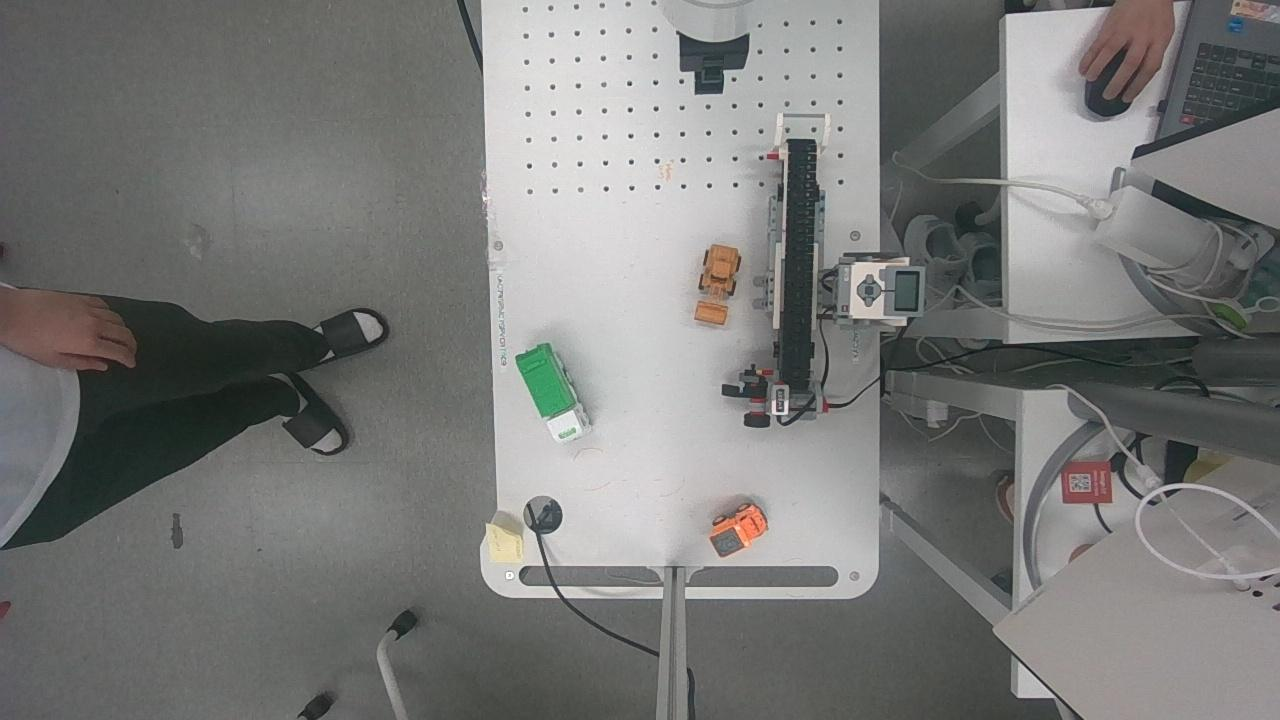green_car: (503, 335, 607, 450)
orange_car: (700, 489, 772, 558)
yellow_car: (691, 235, 739, 330)
